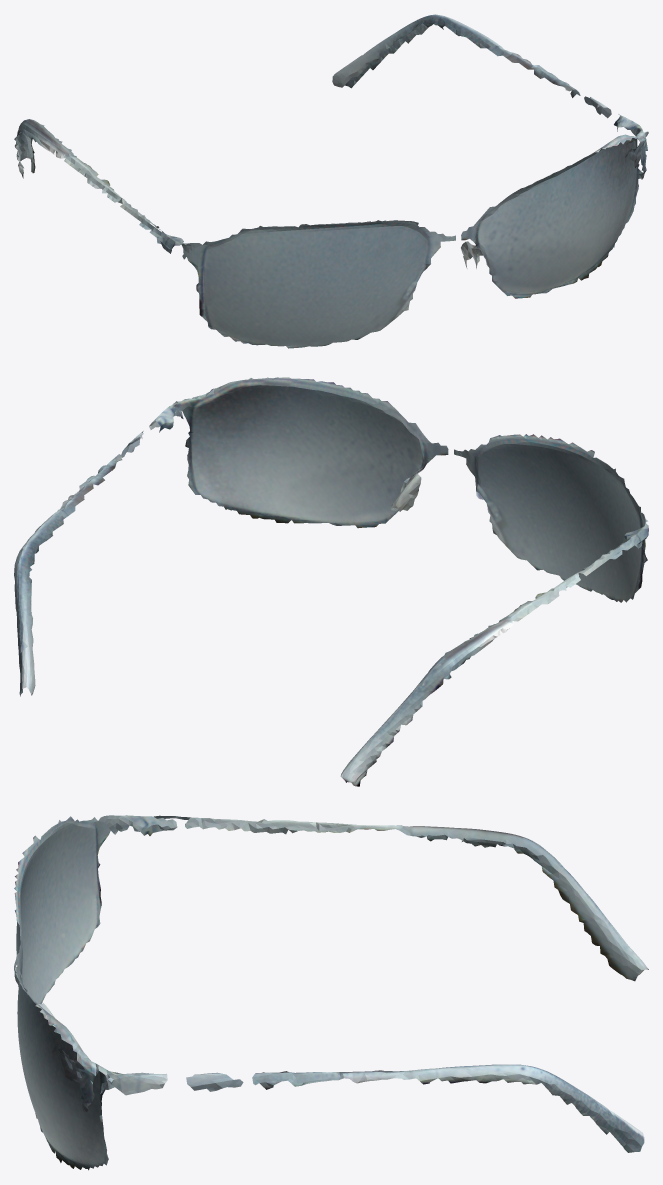
Rendered from scan_align.obj.
3 renders of one model, top to bottom at view 1: azimuth 30°, elevation 25°; view 2: azimuth 150°, elevation 25°; view 3: azimuth 270°, elevation 25°, orthographic. The views are drawn at different scales.
Bounding box in the file's own units: 0.1454 × 0.0394 × 0.1441.
Materials: 1 (1 with a texture image).
